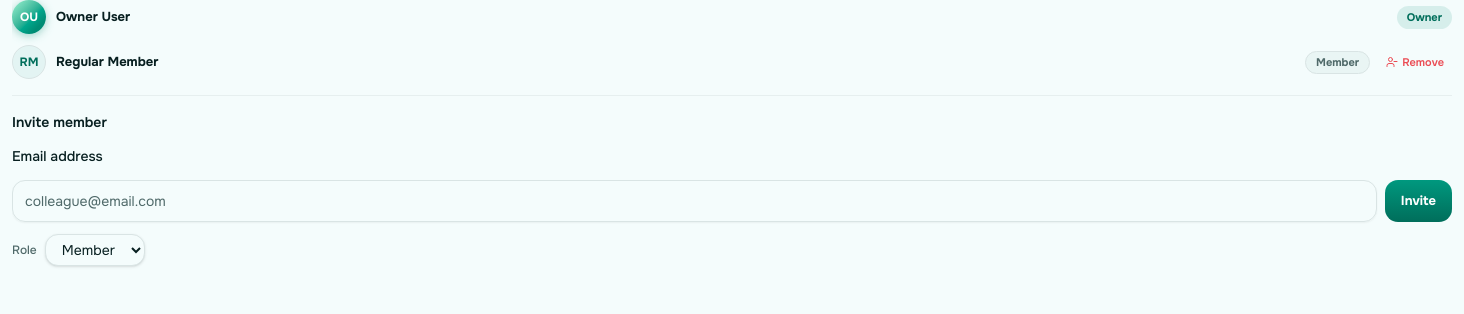
Test case: <TeamManager /> › shows user-not-found message on USER_NOT_FOUND response
Type "notfound@example.com" into the field labelled "Email address" at (694, 201), box [12,180,1377,222]
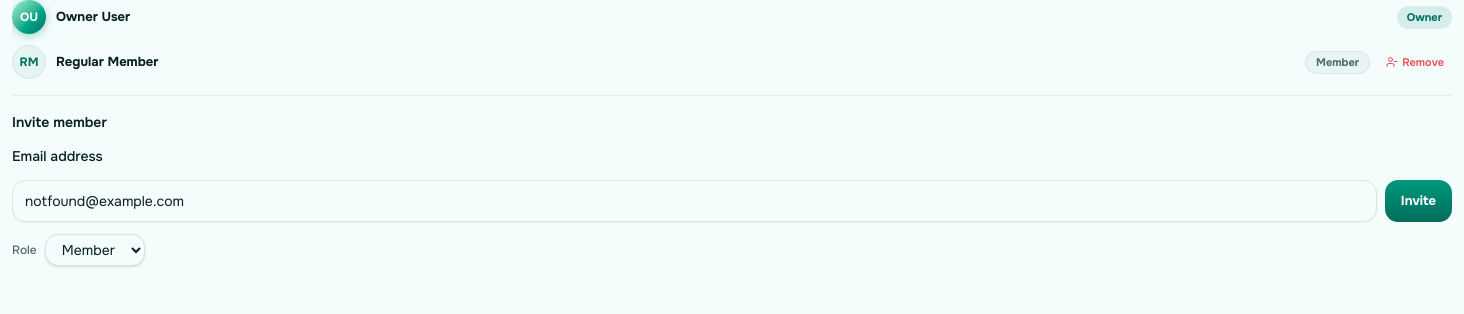
Click the button "Invite" at (1418, 201), box [1385,180,1452,222]
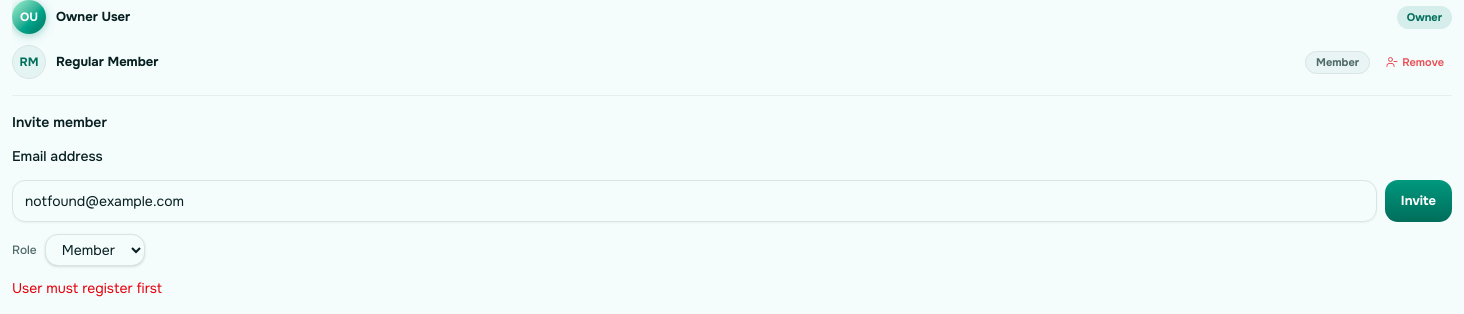
Now the text "User must register first" is shown, box [12,279,162,297]
